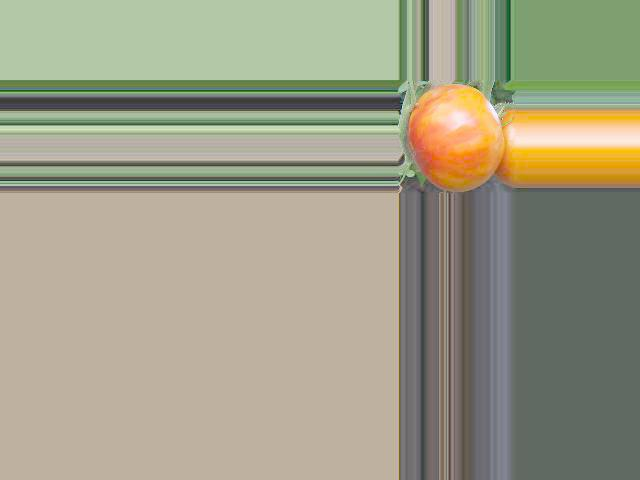tomato: (408, 84, 503, 192)
